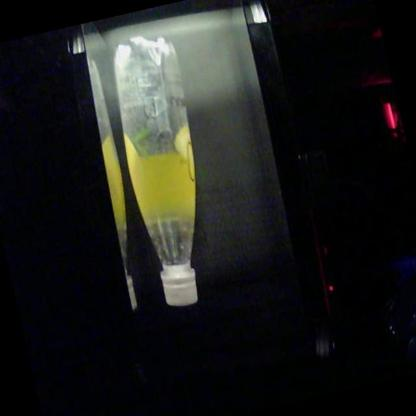Plastic Bottle: (115, 36, 197, 306)
